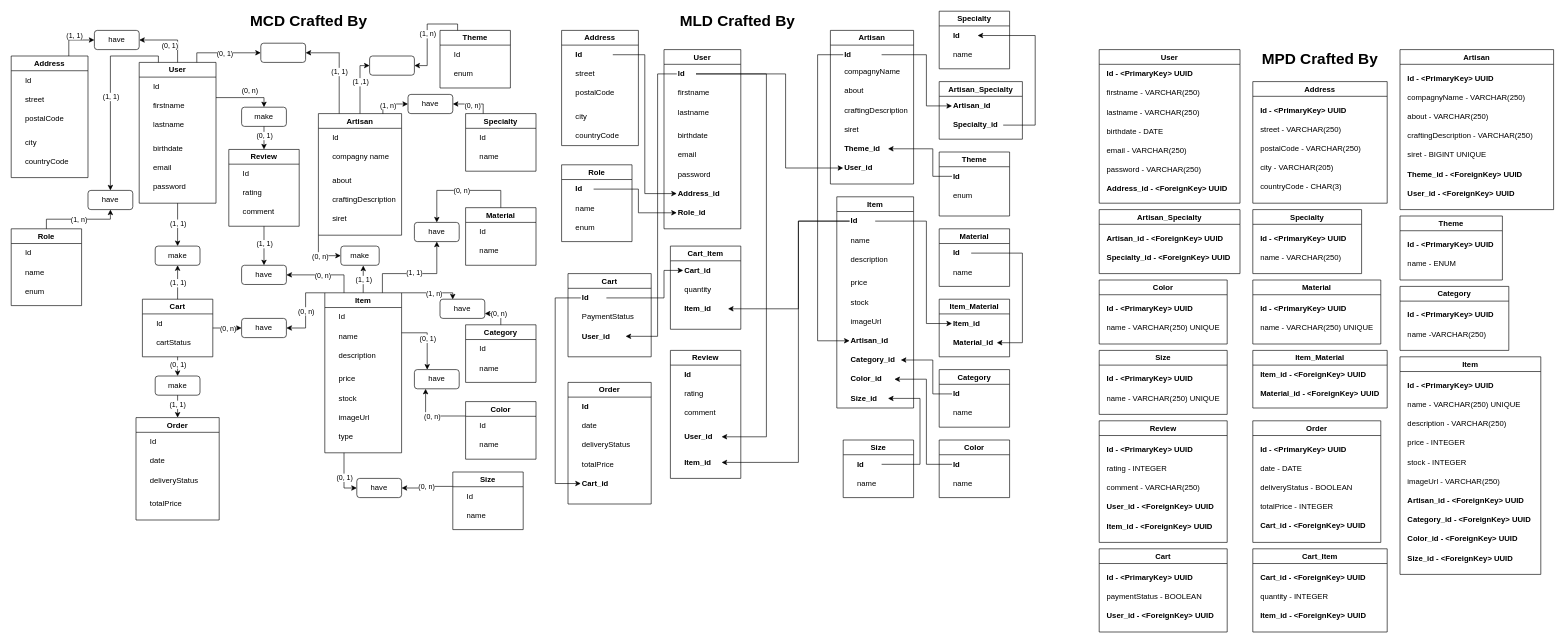
Some shapes in this 1565 by 643 pixel diagram are drawn without their labels. Here are the shapes that lost their labels. From the top down, the centre of each, then its label:
At [283,52]: "be".
At [391,65]: "choose".
